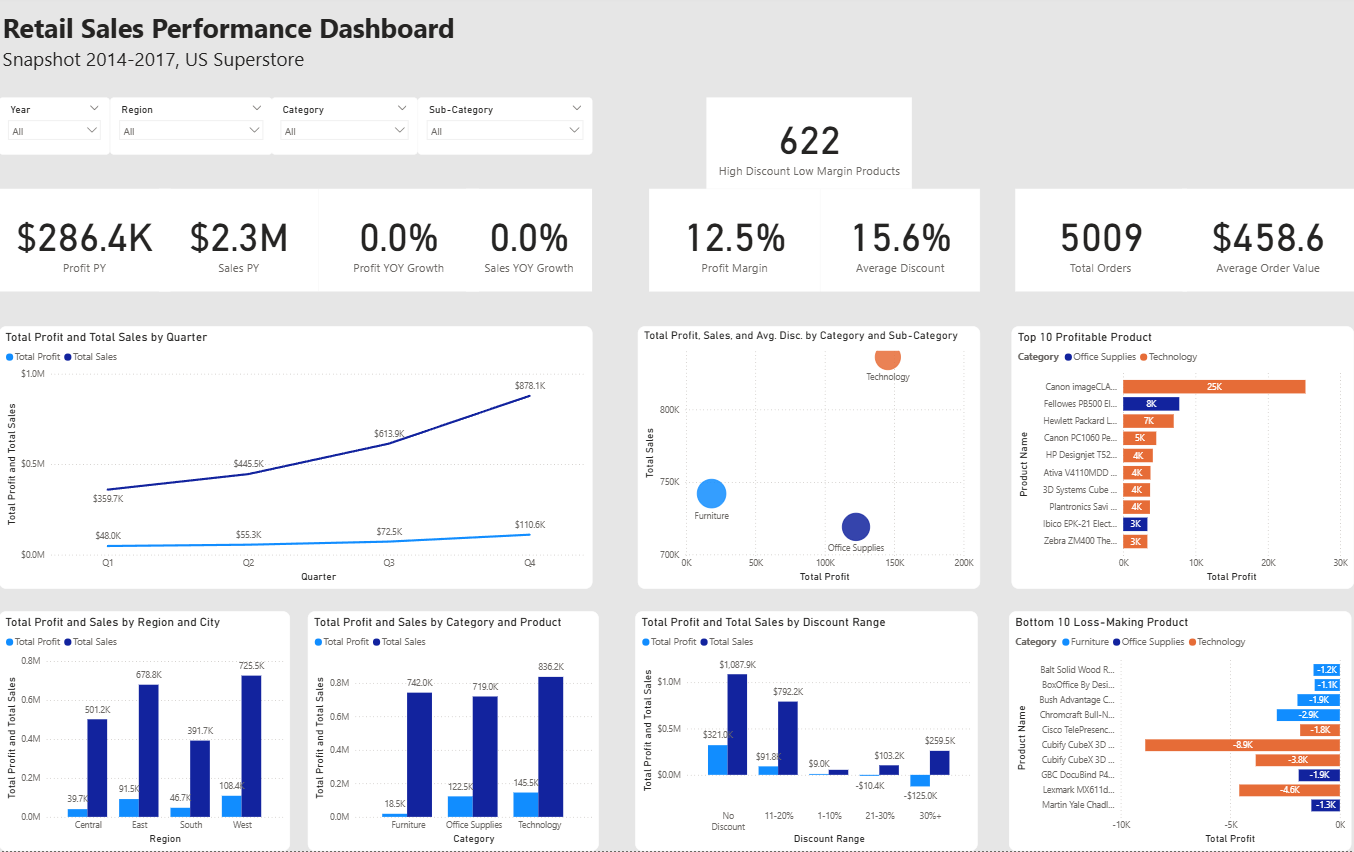

Layout of this report page (visuals, bound fields, positions):
{"tool":"powerbi","page":{"name":"Page 1","canvas":[1900,1200],"ordinal":0},"visuals":[{"type":"slicer","fields":{"Values":["Calendar.Year"]},"box":[0,144,155.4,80],"z":0,"group":"g1"},{"type":"clusteredColumnChart","title":"Total Profit and Sales by Category and Product","fields":{"Category":["Sample - Superstore.Category","Orders.Sub-Category","Orders.Product Name"],"Y":["_Measures.Total Profit","_Measures.Total Sales"]},"box":[432,864,408,336],"z":0},{"type":"slicer","fields":{"Values":["Orders.Region"]},"box":[155.4,144,227.1,80],"z":1000,"group":"g1"},{"type":"lineChart","fields":{"Category":["Calendar.Quarter","Calendar.Month-Year","Calendar.Weekday"],"Y":["_Measures.Total Profit","_Measures.Total Sales"]},"box":[0,464,832,368],"z":1000},{"type":"slicer","fields":{"Values":["Orders.Category"]},"box":[382.4,144,204.9,80],"z":2000,"group":"g1"},{"type":"clusteredColumnChart","title":"Total Profit and Sales by Region and City","fields":{"Category":["Orders.Region","Orders.City"],"Y":["_Measures.Total Profit","_Measures.Total Sales"]},"box":[0,864,408,336],"z":2000},{"type":"slicer","fields":{"Values":["Orders.Sub-Category"]},"box":[587.3,144,244.7,80],"z":3000,"group":"g1"},{"type":"card","fields":{"Values":["_Measures.Sales PY"]},"box":[224,272,224,144],"z":3000},{"type":"textbox","box":[0,16,656,96],"z":4000},{"type":"card","fields":{"Values":["_Measures.Profit Margin"]},"box":[912,272,240,144],"z":5000},{"type":"card","fields":{"Values":["_Measures.Average Order Value"]},"box":[1660,272,240,144],"z":6000},{"type":"barChart","title":"Top 10 Profitable Product","fields":{"Category":["Orders.Product Name"],"Series":["Orders.Category"],"Y":["_Measures.Total Profit"]},"box":[1420,464,480,368],"z":7000},{"type":"card","fields":{"Values":["_Measures.Average Discount"]},"box":[1152,272,224,144],"z":8000},{"type":"barChart","title":"Bottom 10 Loss-Making Product","fields":{"Category":["Orders.Product Name"],"Series":["Orders.Category"],"Y":["_Measures.Total Profit"]},"box":[1416,864,480,336],"z":9000},{"type":"card","fields":{"Values":["_Measures.Profit PY"]},"box":[0,272,240,144],"z":10000},{"type":"scatterChart","title":"Total Profit, Sales, and Avg. Disc. by Category and Sub-Category","fields":{"Category":["Orders.Category","Orders.Sub-Category"],"X":["_Measures.Total Profit"],"Size":["_Measures.Average Discount"],"Series":["Orders.Category"],"Y":["_Measures.Total Sales"]},"box":[896,464,480,368],"z":11000},{"type":"card","fields":{"Values":["_Measures.Total Orders"]},"box":[1424,272,240,144],"z":12000},{"type":"card","fields":{"Values":["_Measures.Profit YOY Growth"]},"box":[448,272,224,144],"z":13000},{"type":"clusteredColumnChart","fields":{"Category":["Orders.Discount Range"],"Y":["_Measures.Total Profit","_Measures.Total Sales"]},"box":[891.3,864,480,336],"z":14000},{"type":"card","fields":{"Values":["_Measures.Sales YOY Growth"]},"box":[656,272,176,144],"z":15000},{"type":"card","fields":{"Values":["_Measures.High Discount Low Margin Products"]},"box":[992,144,288,128],"z":16000},{"type":"group","id":"g1","title":"Group 1","box":[0,144,832,80],"z":17000}]}

Visuals, with their boxes in screenshot pixels (x1, y1, x2, y2), scaled from the page's 1900x1200 canvas onto the 1354x852 screenshot:
slicer - Calendar.Year: x1=0 y1=102 x2=111 y2=159
"Total Profit and Sales by Category and Product" clusteredColumnChart: x1=308 y1=613 x2=599 y2=851
slicer - Orders.Region: x1=111 y1=102 x2=273 y2=159
lineChart - Calendar.Quarter x Calendar.Month-Year: x1=0 y1=329 x2=593 y2=591
slicer - Orders.Category: x1=273 y1=102 x2=419 y2=159
"Total Profit and Sales by Region and City" clusteredColumnChart: x1=0 y1=613 x2=291 y2=851
slicer - Orders.Sub-Category: x1=419 y1=102 x2=593 y2=159
card - _Measures.Sales PY: x1=160 y1=193 x2=319 y2=295
textbox: x1=0 y1=11 x2=467 y2=80
card - _Measures.Profit Margin: x1=650 y1=193 x2=821 y2=295
card - _Measures.Average Order Value: x1=1183 y1=193 x2=1353 y2=295
"Top 10 Profitable Product" barChart: x1=1012 y1=329 x2=1353 y2=591
card - _Measures.Average Discount: x1=821 y1=193 x2=981 y2=295
"Bottom 10 Loss-Making Product" barChart: x1=1009 y1=613 x2=1351 y2=851
card - _Measures.Profit PY: x1=0 y1=193 x2=171 y2=295
"Total Profit, Sales, and Avg. Disc. by Category and Sub-Category" scatterChart: x1=639 y1=329 x2=981 y2=591
card - _Measures.Total Orders: x1=1015 y1=193 x2=1186 y2=295
card - _Measures.Profit YOY Growth: x1=319 y1=193 x2=479 y2=295
clusteredColumnChart - Orders.Discount Range x _Measures.Total Profit: x1=635 y1=613 x2=977 y2=851
card - _Measures.Sales YOY Growth: x1=467 y1=193 x2=593 y2=295
card - _Measures.High Discount Low Margin Products: x1=707 y1=102 x2=912 y2=193
"Group 1" group: x1=0 y1=102 x2=593 y2=159
